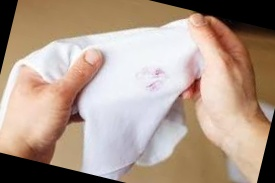lipstick: (130, 59, 169, 95)
